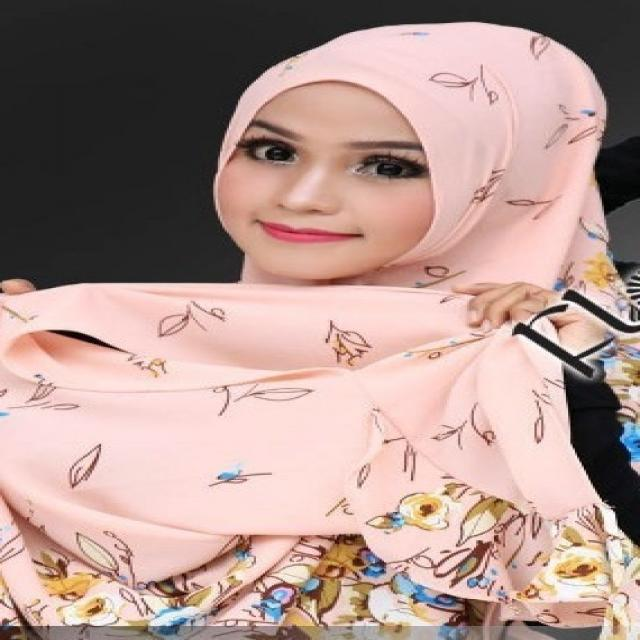head: (201, 18, 630, 293)
